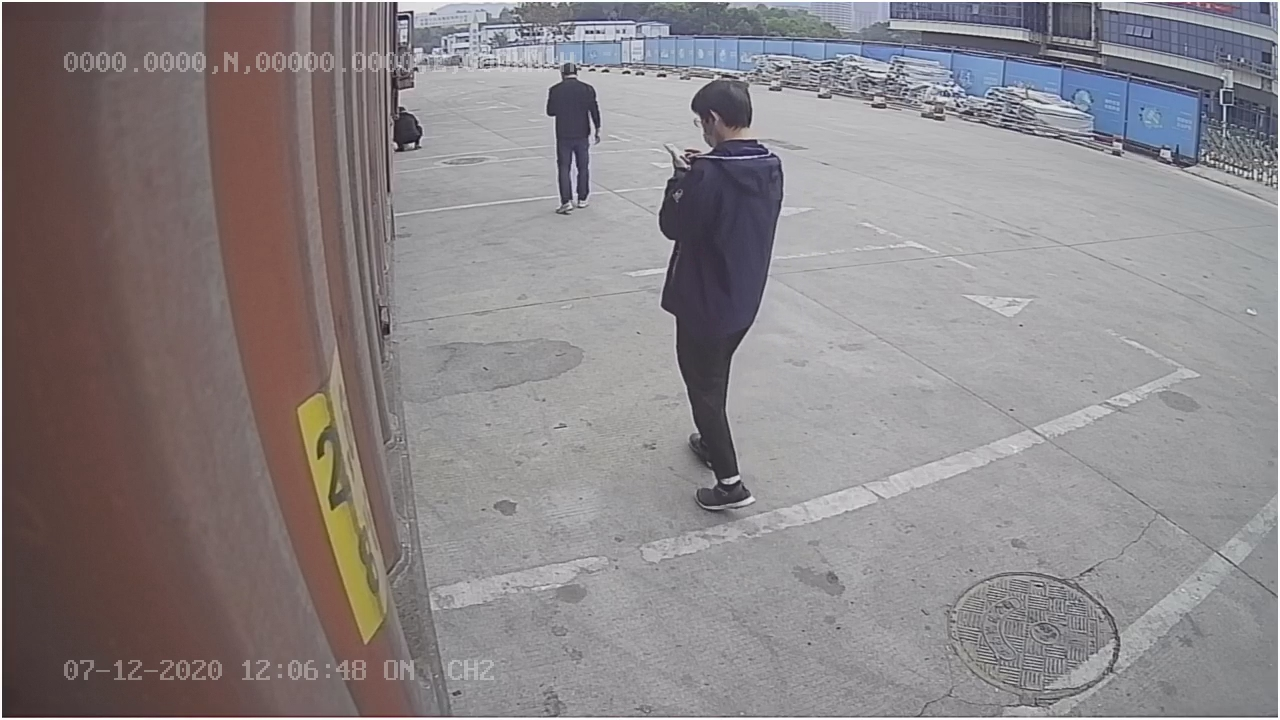person: (654, 73, 780, 512)
